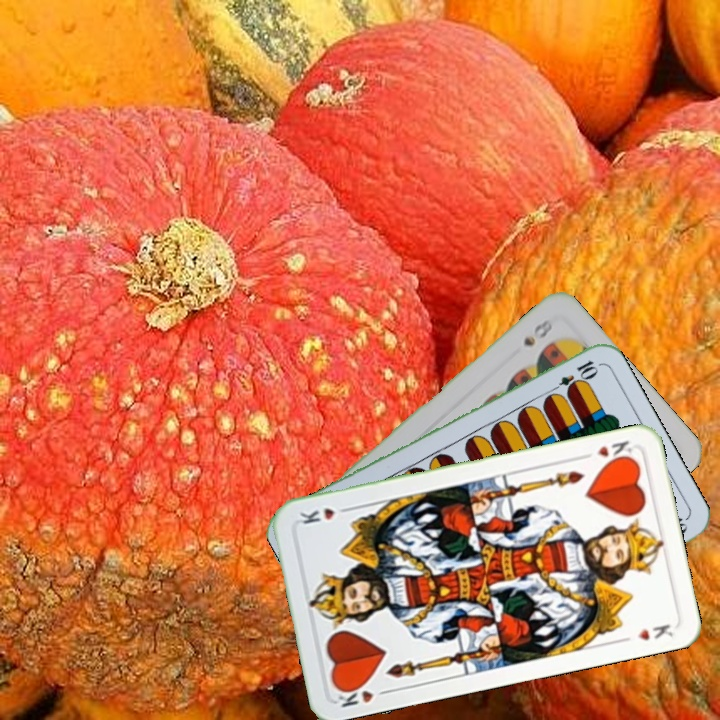E10: (545, 356, 600, 397)
HK: (333, 679, 392, 710), (578, 436, 635, 466)
S8: (519, 315, 555, 349)
